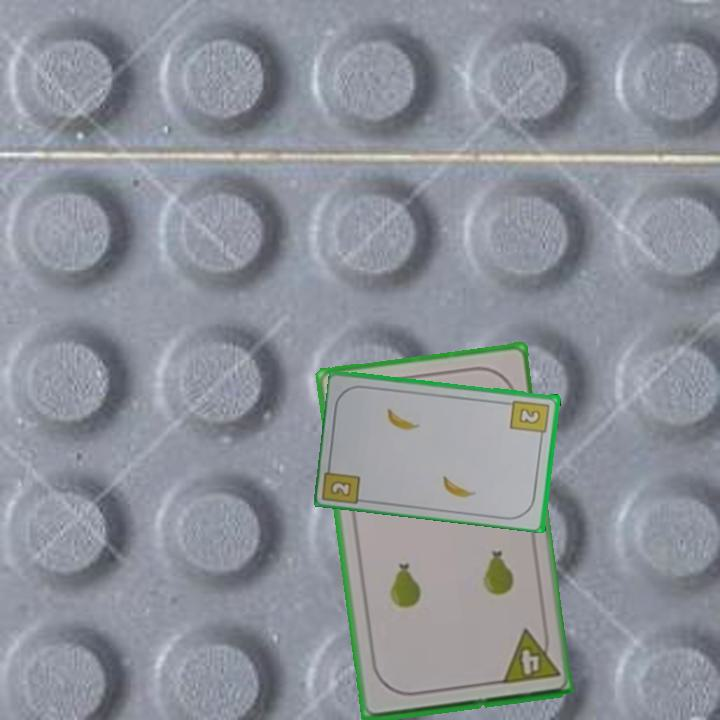2b: (508, 396, 552, 442), (329, 478, 355, 499)
4p: (497, 624, 562, 687)
